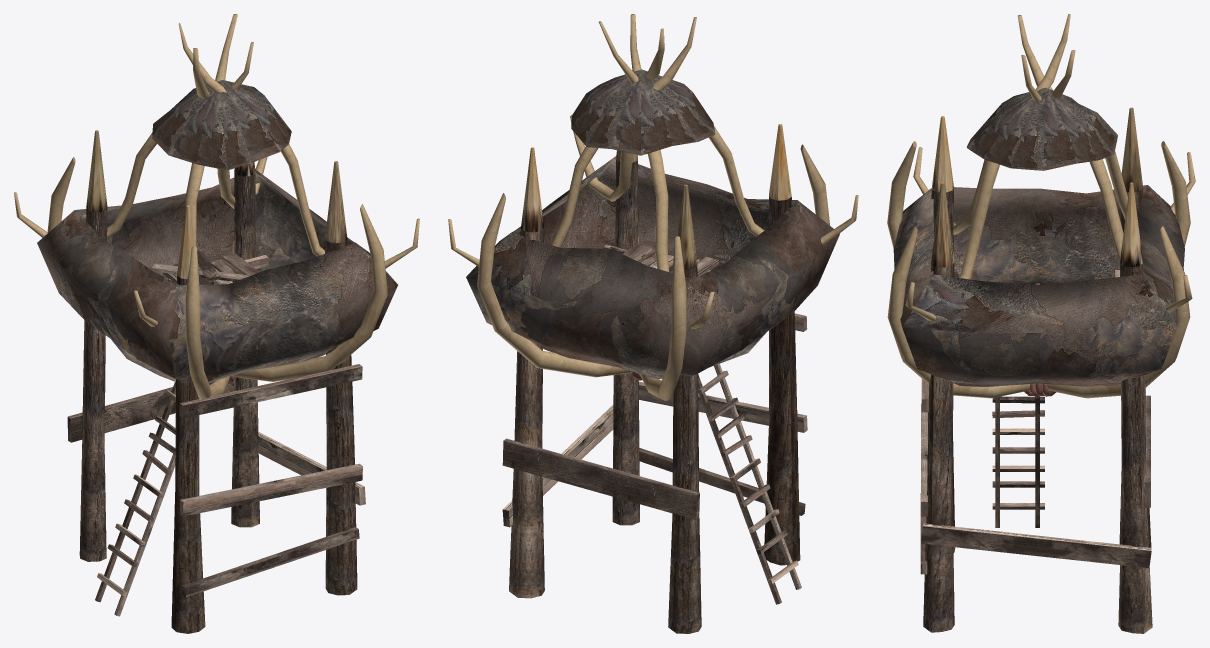
The model's file is boneskin_watchtower.FBX.
3 renders of one model, left to right at view 1: azimuth 30°, elevation 25°; view 2: azimuth 150°, elevation 25°; view 3: azimuth 270°, elevation 25°, orthographic. The views are drawn at different scales.
Parts seen in each view (by area): view 1: boneskin_watchtower; view 2: boneskin_watchtower; view 3: boneskin_watchtower.
Boxes of the visible parts, x1,y1,x2,y2 form: boneskin_watchtower: (14, 14, 419, 633); boneskin_watchtower: (448, 14, 858, 633); boneskin_watchtower: (887, 14, 1195, 633).
Size of the model in its own units: 51.01 by 94.03 by 46.73.
